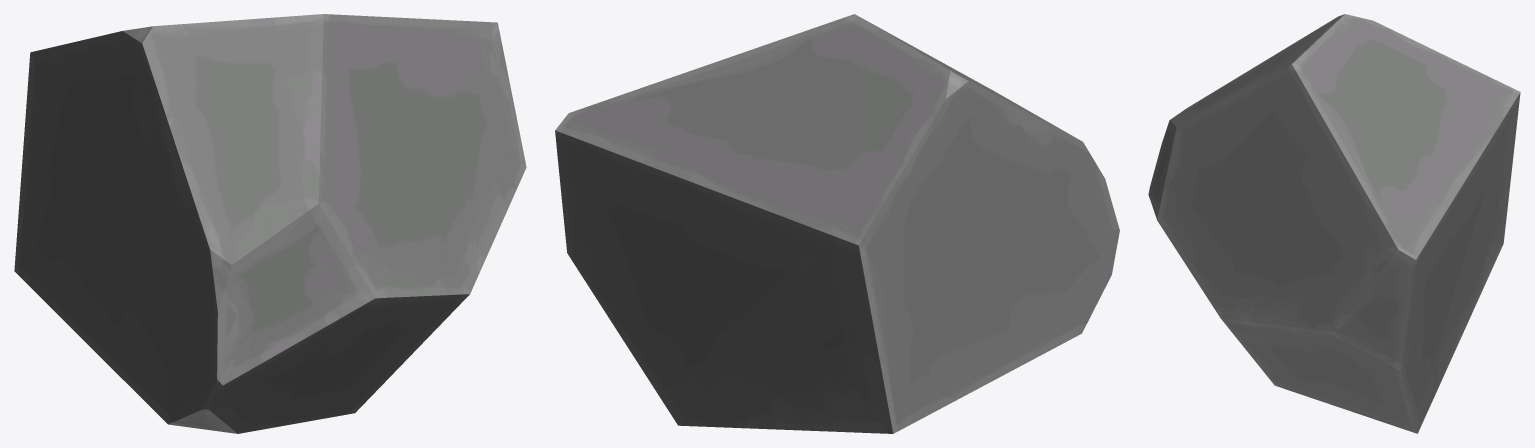
The model's file is rock.gltf.
3 renders of one model, left to right at view 1: azimuth 30°, elevation 25°; view 2: azimuth 150°, elevation 25°; view 3: azimuth 270°, elevation 25°, orthographic. The views are drawn at different scales.
Visible parts, largest first — view 1: node_id4; view 2: node_id4; view 3: node_id4.
Part boxes in pixels (bbox=[...]): node_id4: bbox=[14, 14, 526, 433]; node_id4: bbox=[555, 14, 1119, 433]; node_id4: bbox=[1148, 14, 1520, 433].
Size of the model in its own units: 0.3518 by 0.3118 by 0.3217.
1 material, 1 textured.
